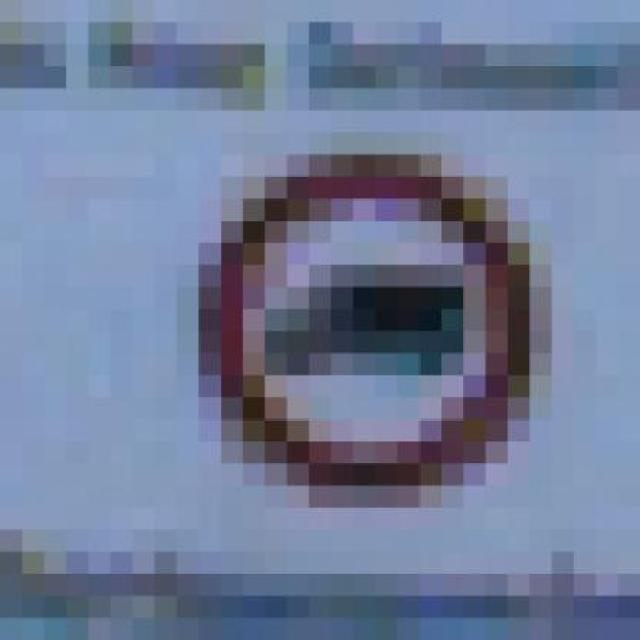Truck traffic is prohibited: (176, 132, 530, 530)
